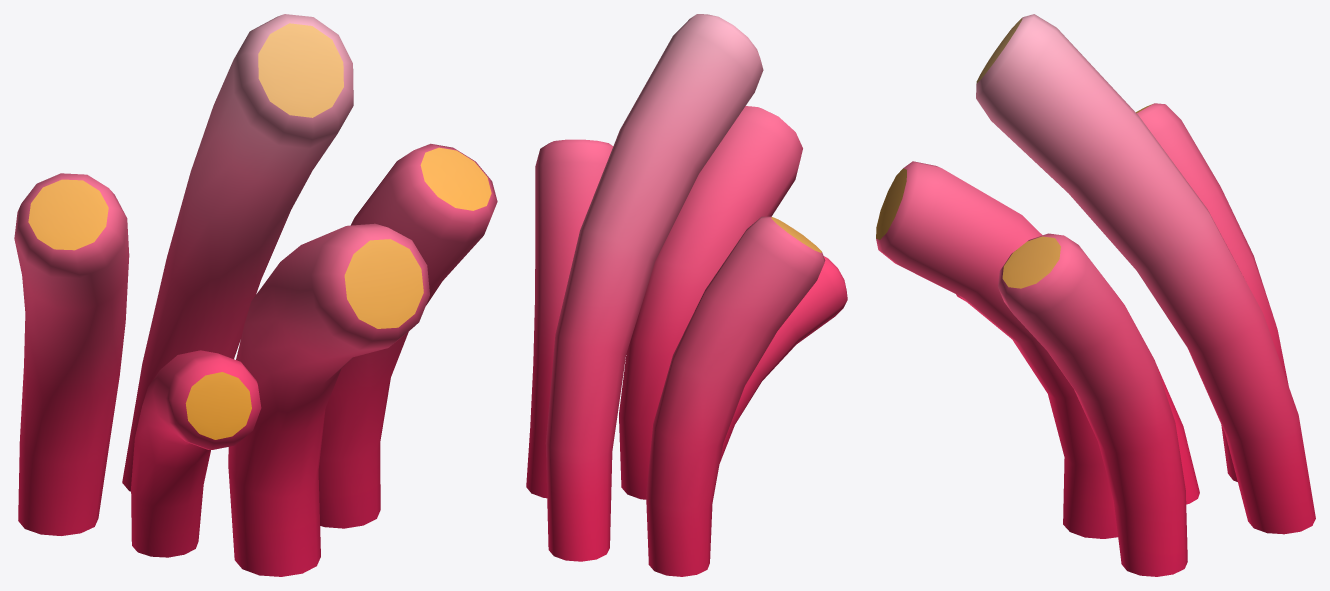
Rendered from Capsule_contents_006.fbx.
The picture shows the model from 3 angles, left to right: view 1: azimuth 30°, elevation 25°; view 2: azimuth 150°, elevation 25°; view 3: azimuth 270°, elevation 25°; orthographic projection. The views are drawn at different scales.
Visible parts, largest first — view 1: Сapsule_contents_006; view 2: Сapsule_contents_006; view 3: Сapsule_contents_006.
Boxes of the visible parts, bbox=[...] form: Сapsule_contents_006: bbox=[14, 14, 497, 576]; Сapsule_contents_006: bbox=[526, 14, 847, 576]; Сapsule_contents_006: bbox=[876, 14, 1315, 576].
Bounding box in the file's own units: 68.93 × 75.29 × 93.11.
